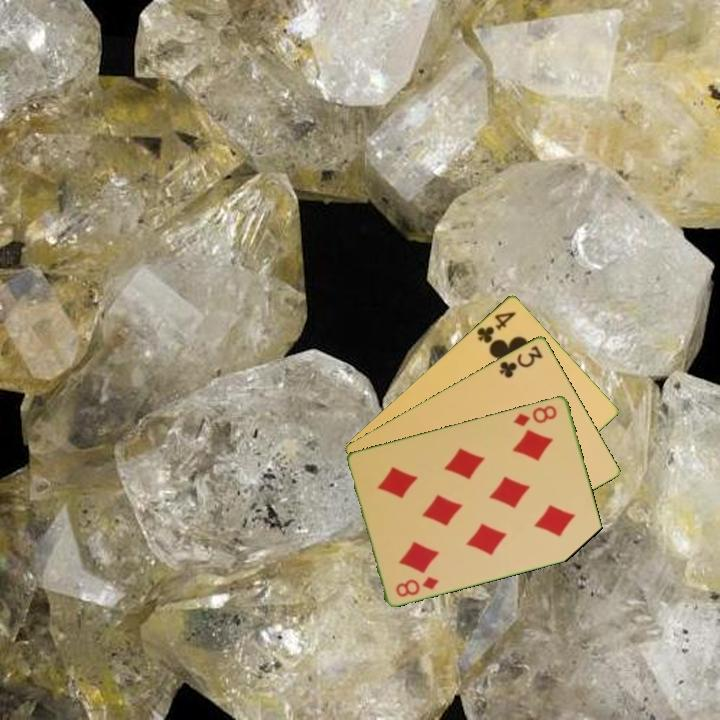3c: (496, 342, 546, 381)
4c: (473, 307, 519, 346)
8d: (510, 401, 560, 429), (392, 573, 442, 600)
